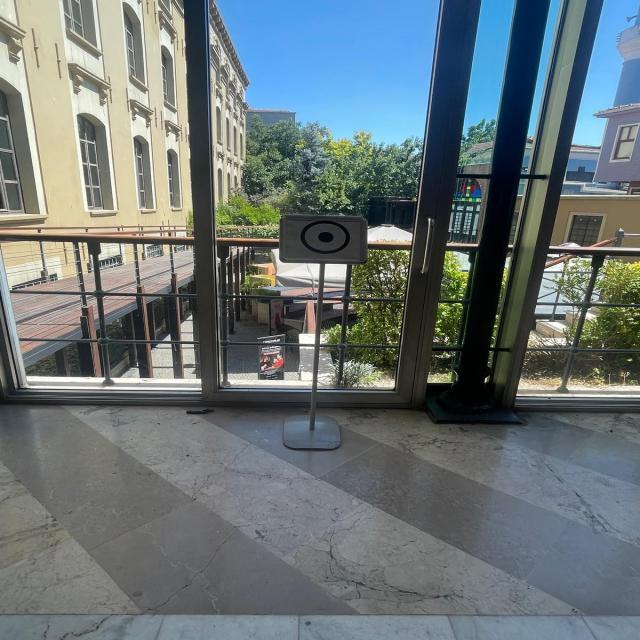Target: (312, 226, 340, 246)
inner: (270, 205, 379, 272)
